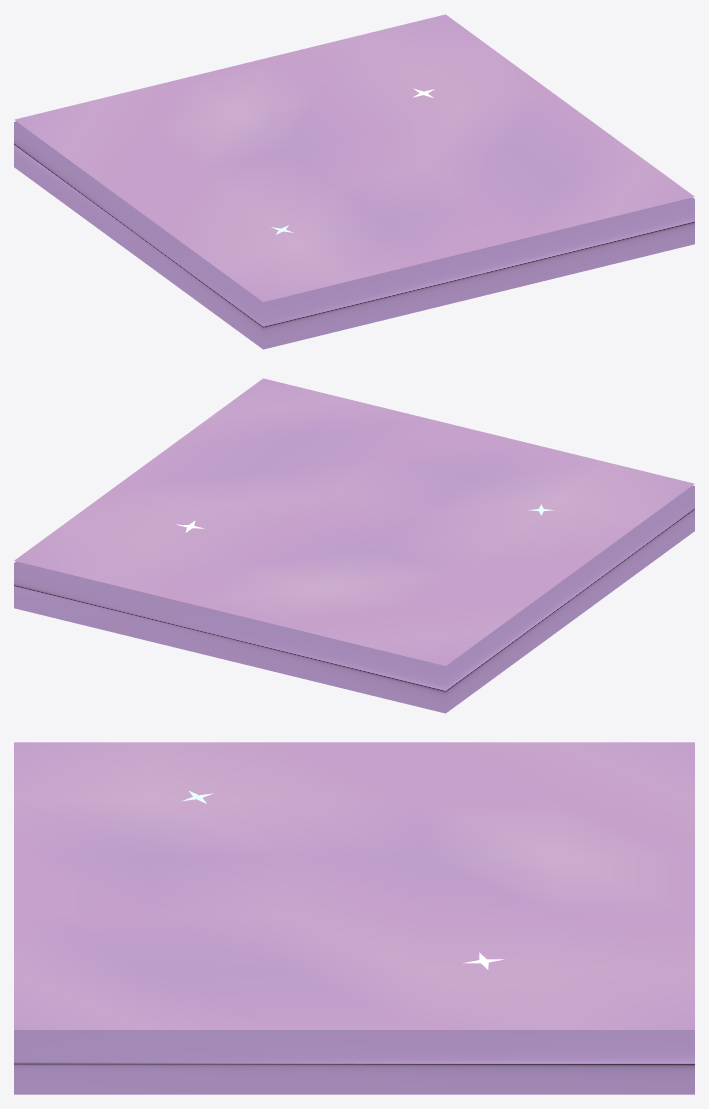
File: tile_glitter_sand.glb
The picture shows the model from 3 angles, top to bottom: view 1: azimuth 30°, elevation 25°; view 2: azimuth 150°, elevation 25°; view 3: azimuth 270°, elevation 25°; orthographic projection. The views are drawn at different scales.
Visible parts, largest first — view 1: Tile.001; view 2: Tile.001; view 3: Tile.001.
Boxes of the visible parts, x1,y1,x2,y2 form: Tile.001: (14,14,694,349); Tile.001: (14,378,694,713); Tile.001: (14,742,694,1094).
Bounding box in the file's own units: 1 × 0.109 × 1.
